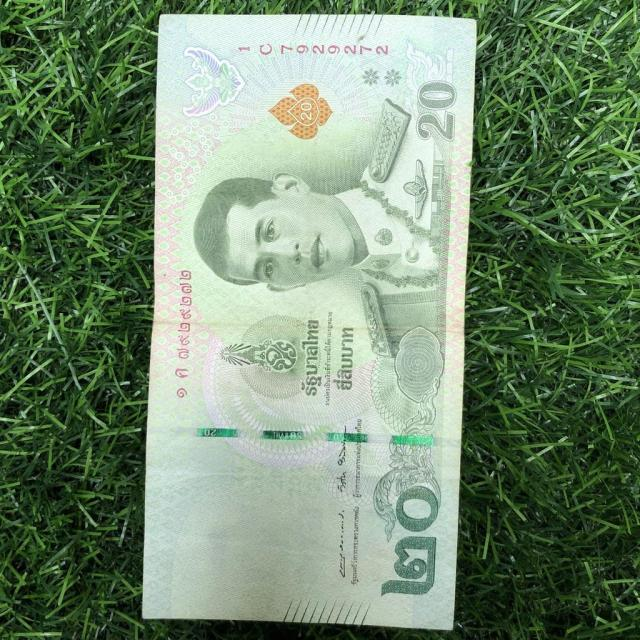THAI20: (141, 14, 478, 634)
